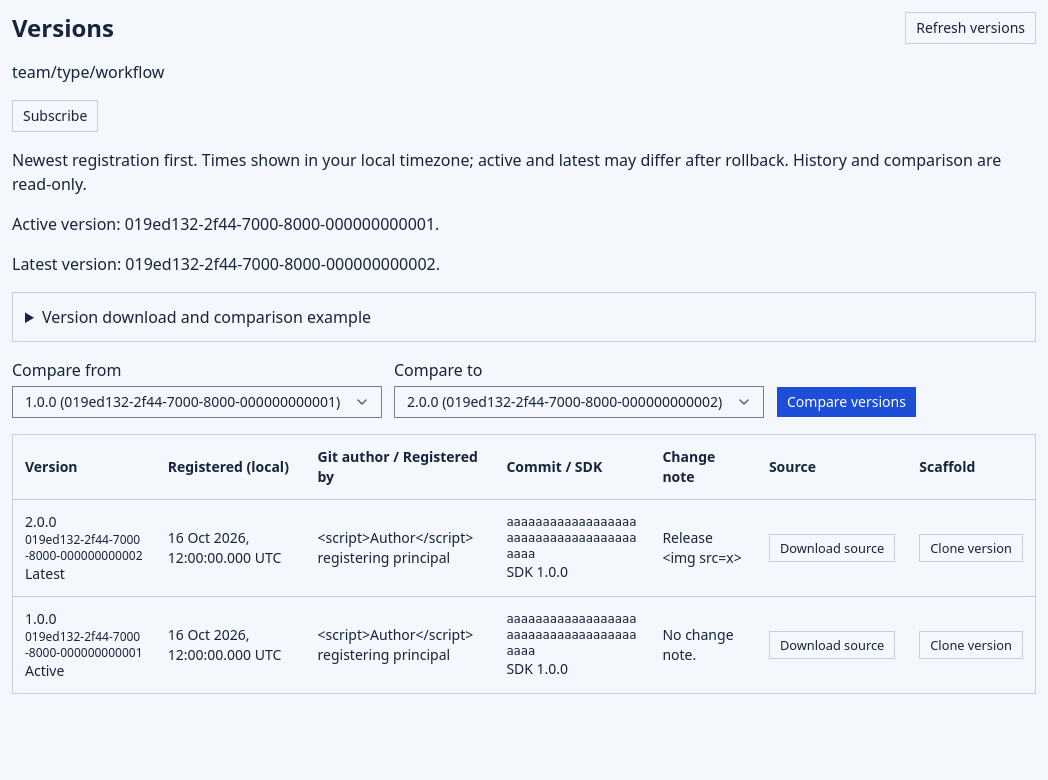
Test case: version history, comparison and read-only states › reports browser download failures instead of claiming a download started
The image size is (1048, 780).
Click the button "Download source" next to "No change note.". click: (832, 645)
box: [769, 631, 895, 659]
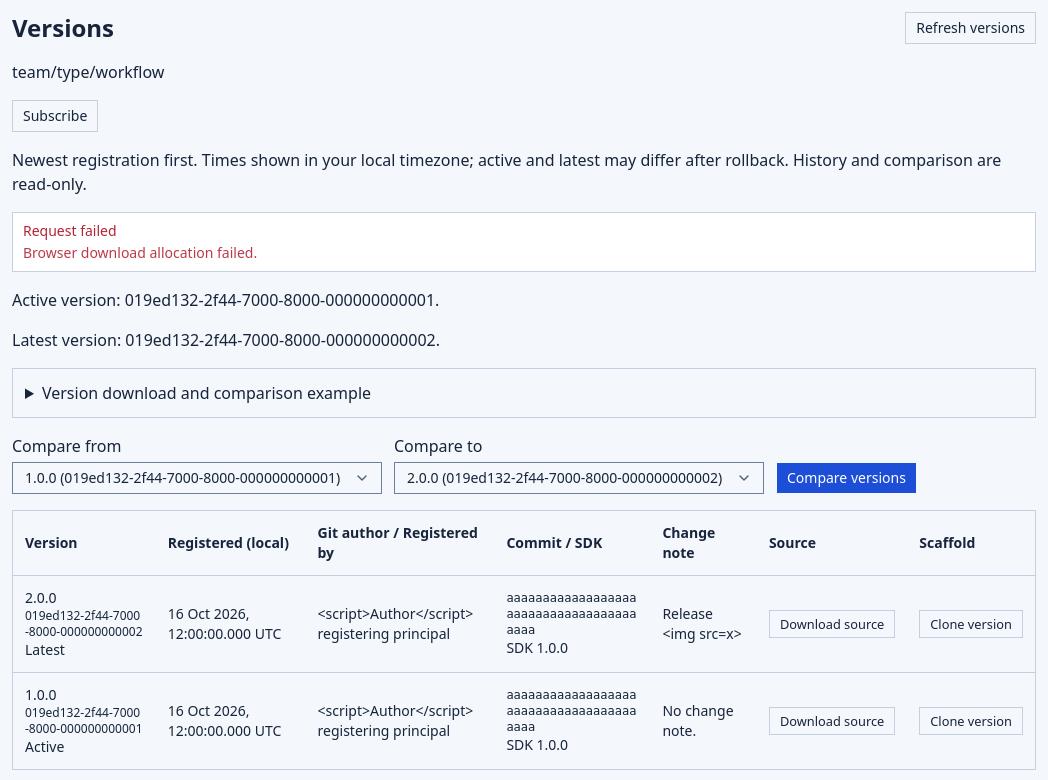
Expected: the message shows "Browser download allocation failed.", [23, 243, 257, 262]
